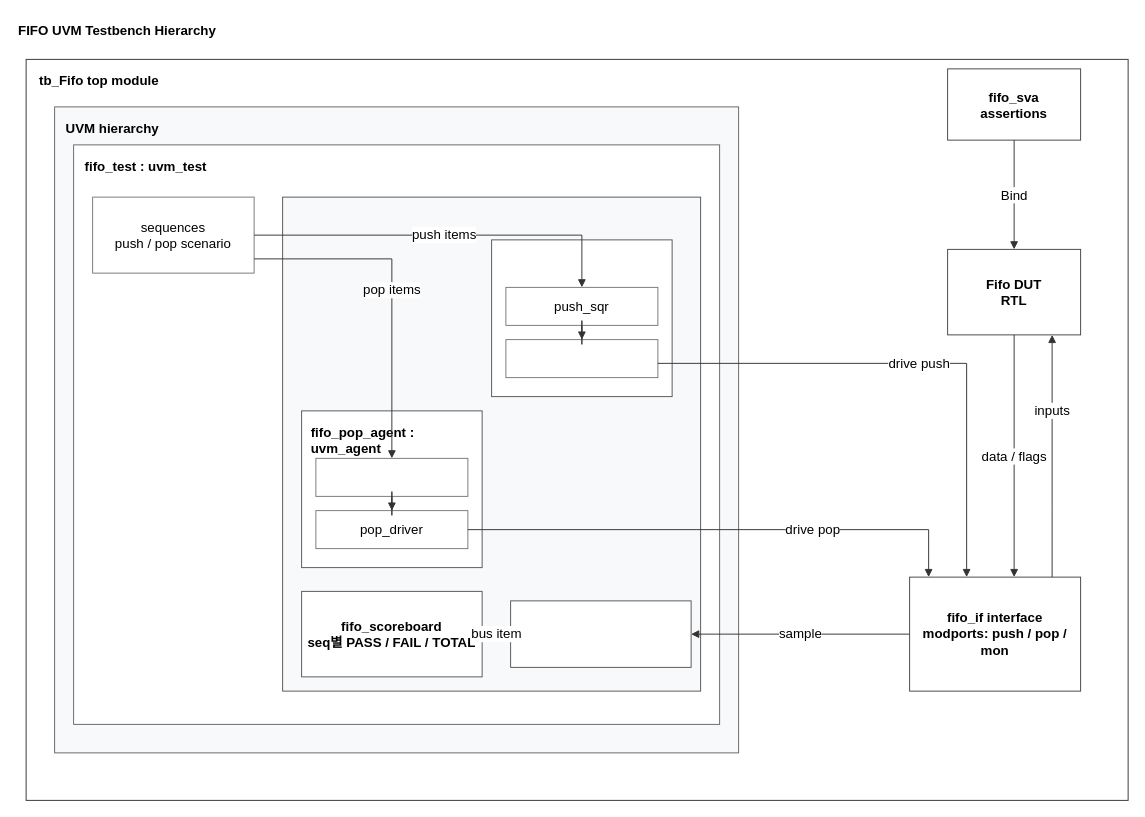
Image size: 1145x817. Some labels were removed from this diagram. Here are the shapes that lost their labels. From the top down, the box of each, then its label:
(491, 239, 672, 397): fifo_push_agent : uvm_agent
(505, 339, 658, 378): push_driver
(282, 196, 701, 691): fifo_env : uvm_env
(315, 457, 468, 496): pop_sqr
(510, 600, 691, 667): fifo_monitor
